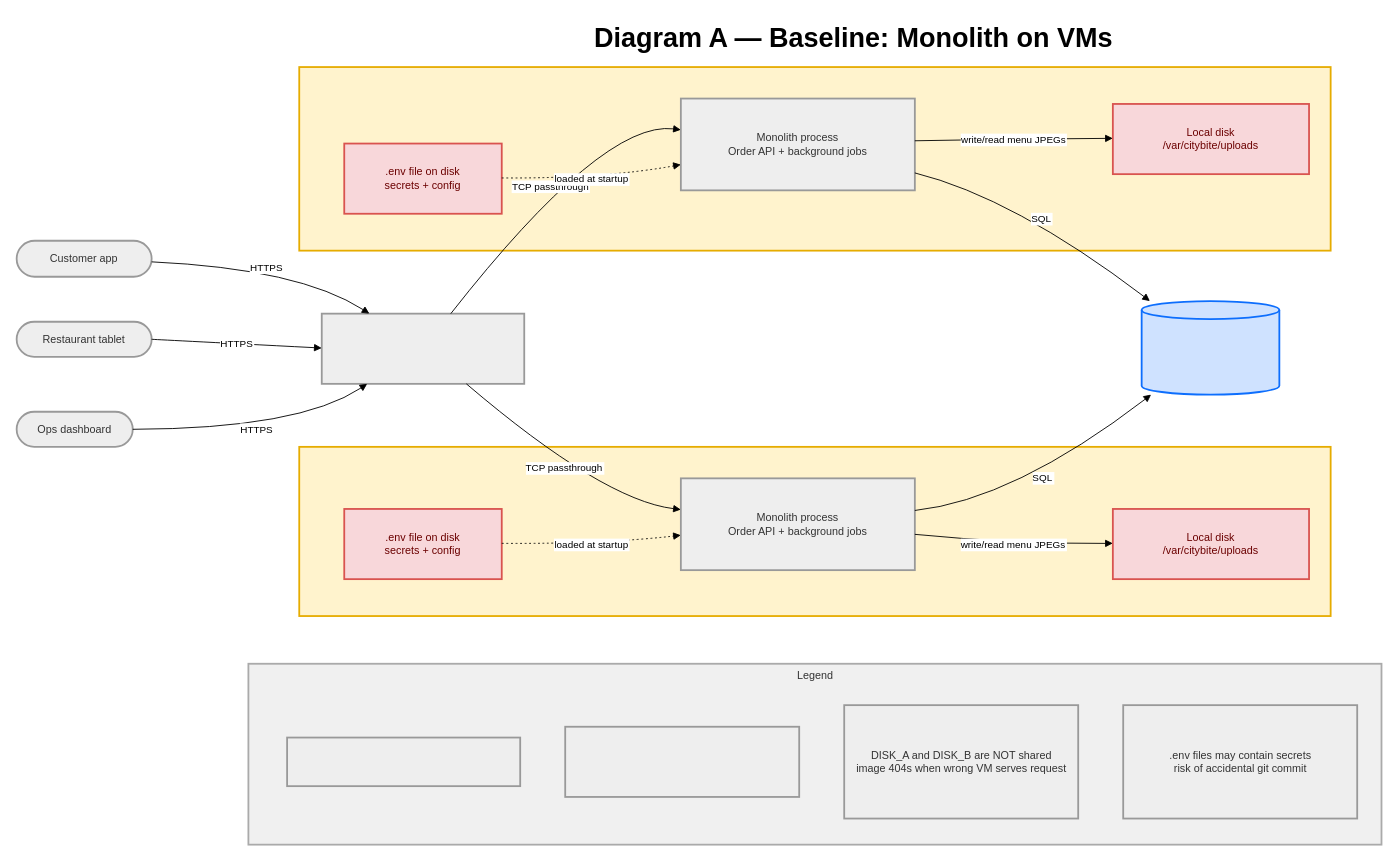
The diagram is 1398 pixels wide and 860 high, and some of its shapes have lost their labels. The centre of each missing label's shape, as x and y in pixels:
Dashed arrow = config or secret load: the point at 682,761
DNS / L4 load balancer manual round-robin: the point at 422,348
PostgreSQL RDS single instance: the point at 1210,347
Solid arrow = live data path: the point at 403,761
